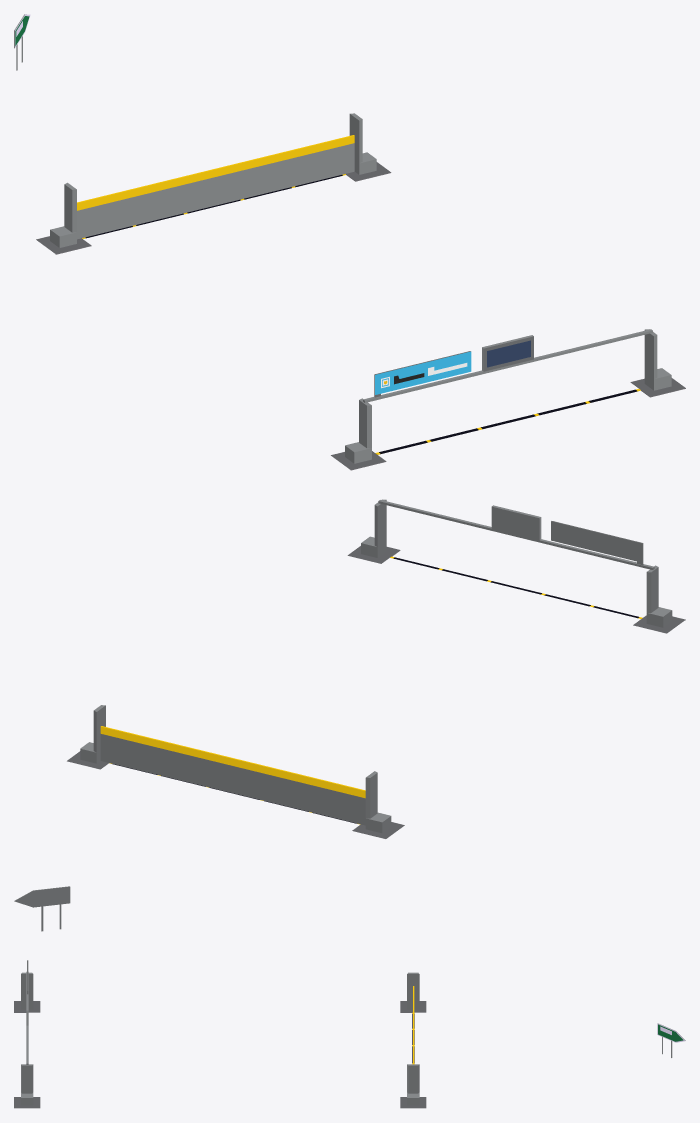
File: Checkpoint.glb
3 renders of one model, top to bottom at view 1: azimuth 30°, elevation 25°; view 2: azimuth 150°, elevation 25°; view 3: azimuth 270°, elevation 25°, orthographic. The views are drawn at different scales.
Parts seen in each view (by area): view 1: GATE_FENCE, SPEED_CHECK, GAGTE, BANNER; view 2: GATE_FENCE, SPEED_CHECK, GAGTE, BANNER, SIGN; view 3: SPEED_CHECK, GAGTE, SIGN.
Part boxes in pixels (x1,y1,x2,y2): GATE_FENCE: (77,135,354,239); SPEED_CHECK: (331,329,685,470); GAGTE: (36,113,391,254); BANNER: (374,351,471,397); GATE_FENCE: (100,726,365,825); SPEED_CHECK: (347,499,685,633); GAGTE: (67,705,404,838); BANNER: (551,521,643,564); SIGN: (14,886,70,931); SPEED_CHECK: (14,971,40,1108); GAGTE: (400,972,426,1108); SIGN: (657,1023,685,1057).
Size of the model in its own units: 19.31 by 4.5 by 51.13.
